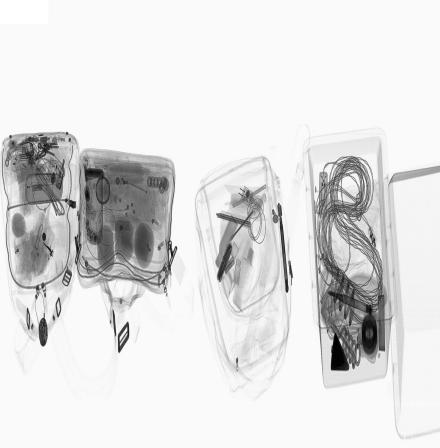Knife: (216, 242, 233, 284)
